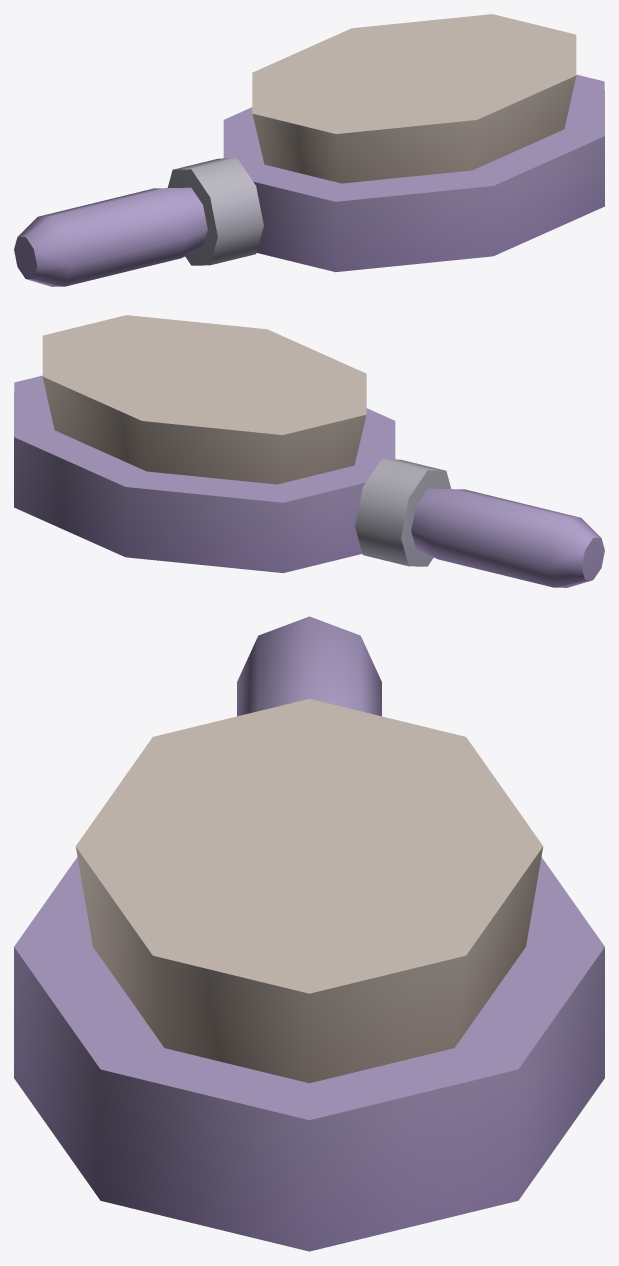
File: hairbrush.glb
The picture shows the model from 3 angles, top to bottom: view 1: azimuth 30°, elevation 25°; view 2: azimuth 150°, elevation 25°; view 3: azimuth 270°, elevation 25°; orthographic projection. The views are drawn at different scales.
Visible parts, largest first — view 1: hairbrush; view 2: hairbrush; view 3: hairbrush.
Part boxes in pixels (x1,y1,x2,y2): hairbrush: (14, 14, 604, 286); hairbrush: (14, 315, 604, 587); hairbrush: (14, 616, 604, 1251).
Bounding box in the file's own units: 0.3375 × 0.0764 × 0.1598.
